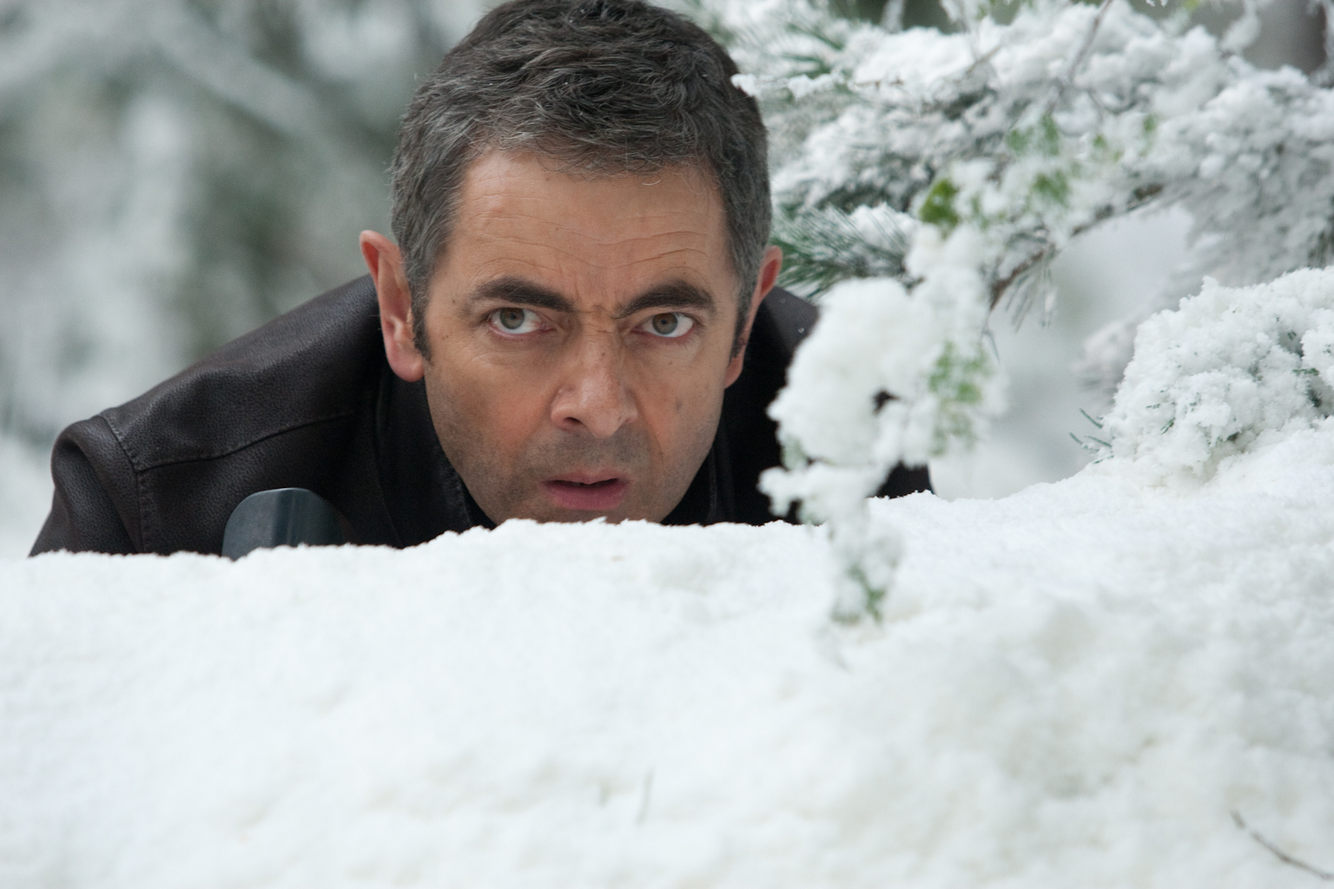46: (360, 79, 779, 631)
Jacket: (17, 188, 952, 600)
Male: (360, 79, 779, 631)
